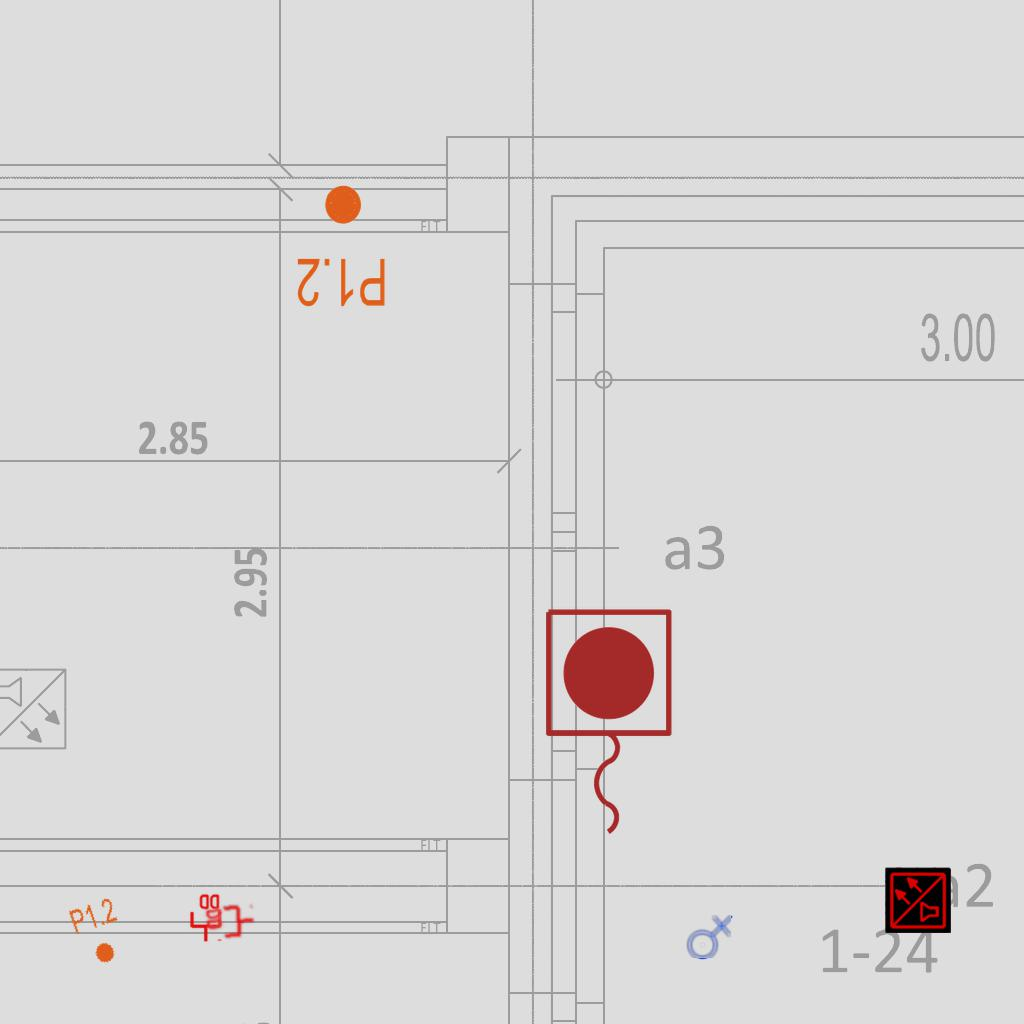Datenanschluss_zweifach: (203, 903, 257, 942), (188, 892, 222, 943)
Downlight_LED_Einbauleuchten_Flur: (295, 182, 388, 310), (66, 895, 132, 971)
Elektroanschluss_allgemein_230V_Geraeteanschlussdose_230V: (684, 913, 733, 960)
OKW_Multisensormelder_(Kombination_optischer_Rauch-Kahlenmonoxid_Waerme-Melder): (885, 867, 951, 933)
Zugtaster: (535, 601, 679, 845)
